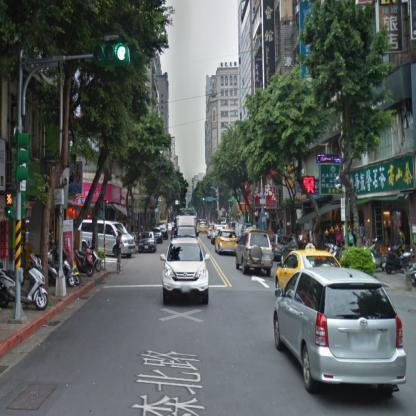Green Light: (91, 42, 131, 63)
